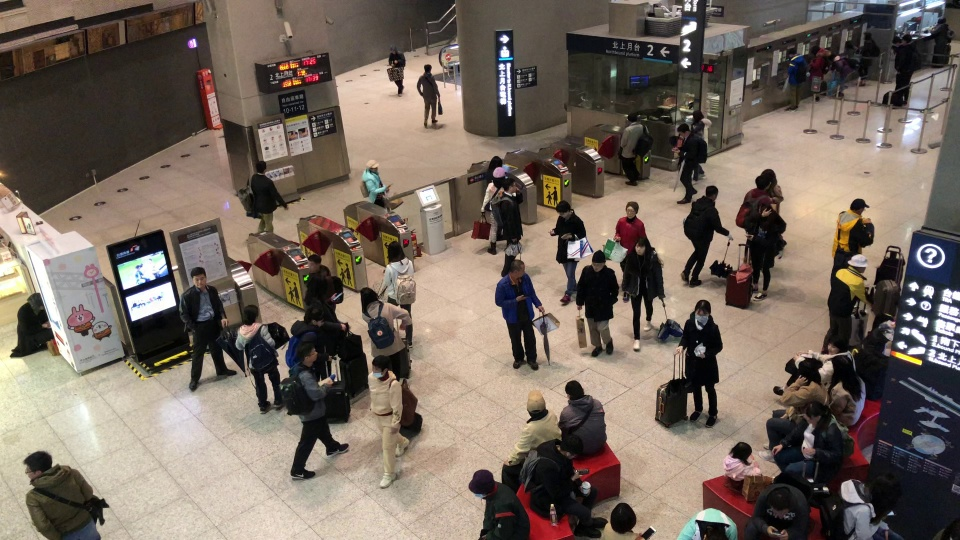person_head: (870, 471, 903, 504), (21, 451, 53, 479), (610, 501, 637, 534), (468, 468, 494, 498), (768, 487, 791, 516), (559, 434, 584, 460), (526, 389, 547, 416), (803, 399, 825, 424), (303, 305, 325, 329), (832, 357, 854, 381), (296, 342, 317, 366), (370, 353, 389, 378), (798, 360, 820, 381), (826, 334, 848, 354), (190, 265, 208, 289), (564, 379, 585, 399), (732, 440, 752, 461), (694, 298, 711, 322), (308, 276, 326, 298), (386, 241, 405, 261), (359, 286, 378, 306), (848, 254, 868, 272), (702, 524, 726, 539), (242, 304, 259, 325), (850, 197, 869, 215), (591, 249, 606, 271), (555, 199, 572, 217), (634, 236, 650, 255), (623, 200, 640, 217), (28, 292, 43, 311), (510, 259, 525, 278), (306, 252, 320, 272), (762, 168, 778, 185), (753, 175, 770, 190), (488, 155, 502, 173), (705, 184, 719, 200), (492, 166, 505, 183), (503, 178, 517, 192), (676, 123, 690, 137), (365, 158, 379, 171), (255, 160, 267, 175), (759, 203, 772, 216), (692, 110, 704, 121), (627, 111, 638, 122), (810, 44, 820, 56), (787, 48, 797, 58), (863, 31, 873, 41), (902, 35, 911, 46), (423, 63, 432, 73), (389, 44, 397, 54), (937, 17, 946, 24), (831, 53, 837, 62)
person_vbox: (278, 341, 350, 480), (519, 433, 608, 538), (178, 265, 237, 393), (20, 450, 102, 540), (757, 360, 827, 463), (366, 354, 419, 487), (772, 399, 855, 481), (675, 298, 724, 428), (501, 389, 562, 490), (819, 469, 905, 540), (679, 184, 734, 289), (494, 259, 545, 372), (234, 303, 283, 414), (771, 334, 856, 395), (620, 236, 665, 350), (359, 285, 413, 379), (742, 469, 814, 538), (575, 249, 620, 358), (467, 467, 531, 540), (547, 198, 587, 305), (826, 254, 875, 340), (743, 202, 784, 303), (381, 241, 417, 351), (236, 159, 289, 233), (558, 379, 607, 456), (285, 305, 333, 380), (613, 200, 647, 302), (491, 177, 525, 278), (8, 292, 53, 360), (674, 122, 708, 204), (831, 197, 875, 260), (828, 355, 866, 426), (619, 109, 654, 186), (479, 166, 506, 256), (302, 253, 345, 308), (306, 277, 352, 327), (761, 168, 786, 259), (722, 440, 760, 495), (734, 175, 772, 227), (677, 507, 738, 539), (601, 501, 651, 539), (895, 34, 921, 104), (359, 156, 392, 208), (783, 47, 808, 111), (417, 63, 441, 128), (807, 44, 832, 104), (854, 30, 880, 87), (691, 109, 712, 179), (830, 52, 858, 99), (387, 44, 406, 97), (929, 17, 954, 45)
